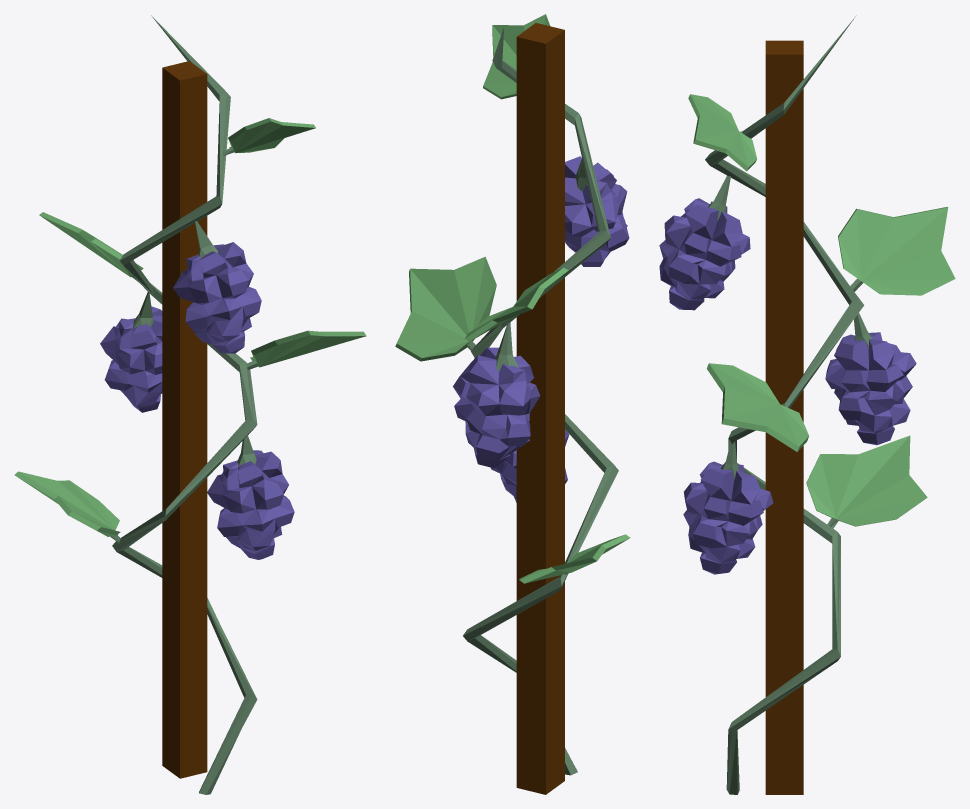
File: grap.fbx
The picture shows the model from 3 angles, left to right: view 1: azimuth 30°, elevation 25°; view 2: azimuth 150°, elevation 25°; view 3: azimuth 270°, elevation 25°; orthographic projection. The views are drawn at different scales.
Visible parts, largest first — view 1: grap; view 2: grap; view 3: grap.
Boxes of the visible parts, left/top/right/bottom form: grap: left=14, top=15, right=366, bottom=794; grap: left=395, top=14, right=630, bottom=794; grap: left=659, top=15, right=955, bottom=794.
Size of the model in its own units: 68.98 by 184 by 63.31.
